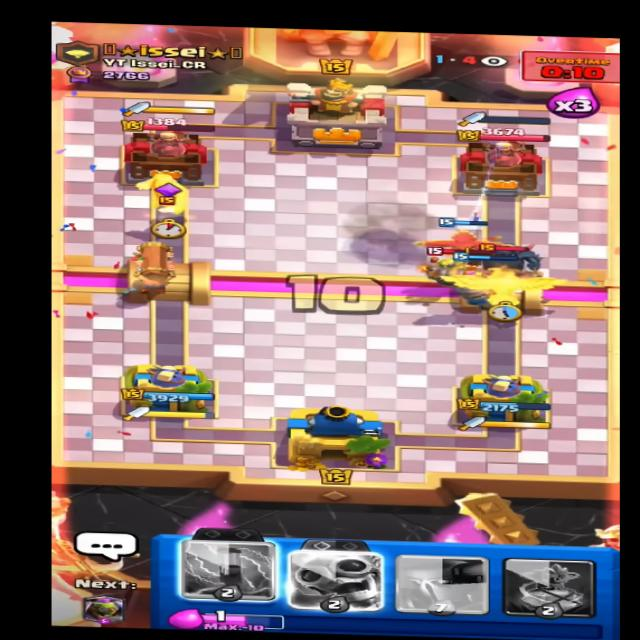goblin-demolisher: (407, 246, 482, 292)
knight: (136, 169, 200, 218)
pekka: (462, 236, 549, 278)
